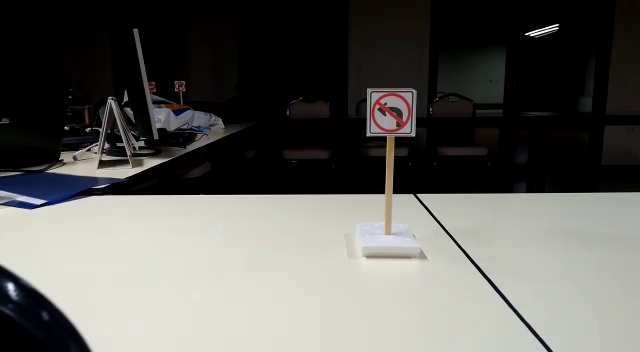sola_donulmez: (368, 86, 414, 136)
